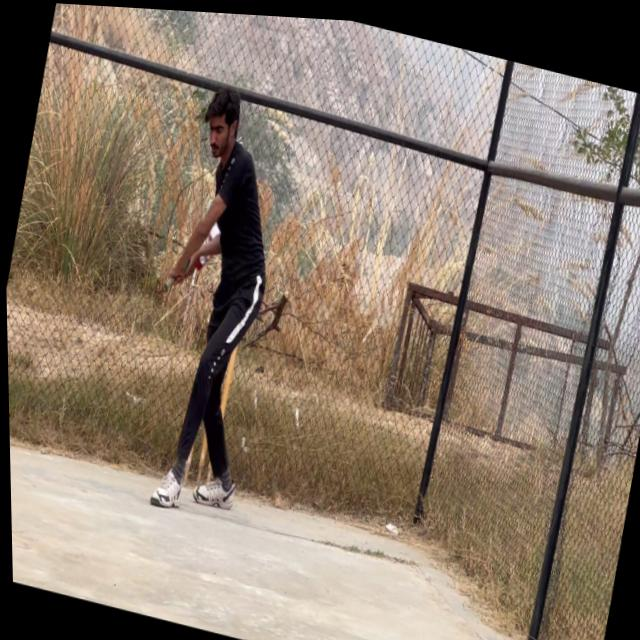Batsman: (114, 57, 321, 537)
